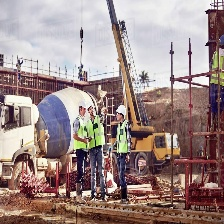person: (87, 99, 109, 198), (115, 100, 133, 207), (72, 103, 90, 204)
vest: (74, 114, 85, 151), (90, 118, 102, 147), (118, 126, 127, 152)
